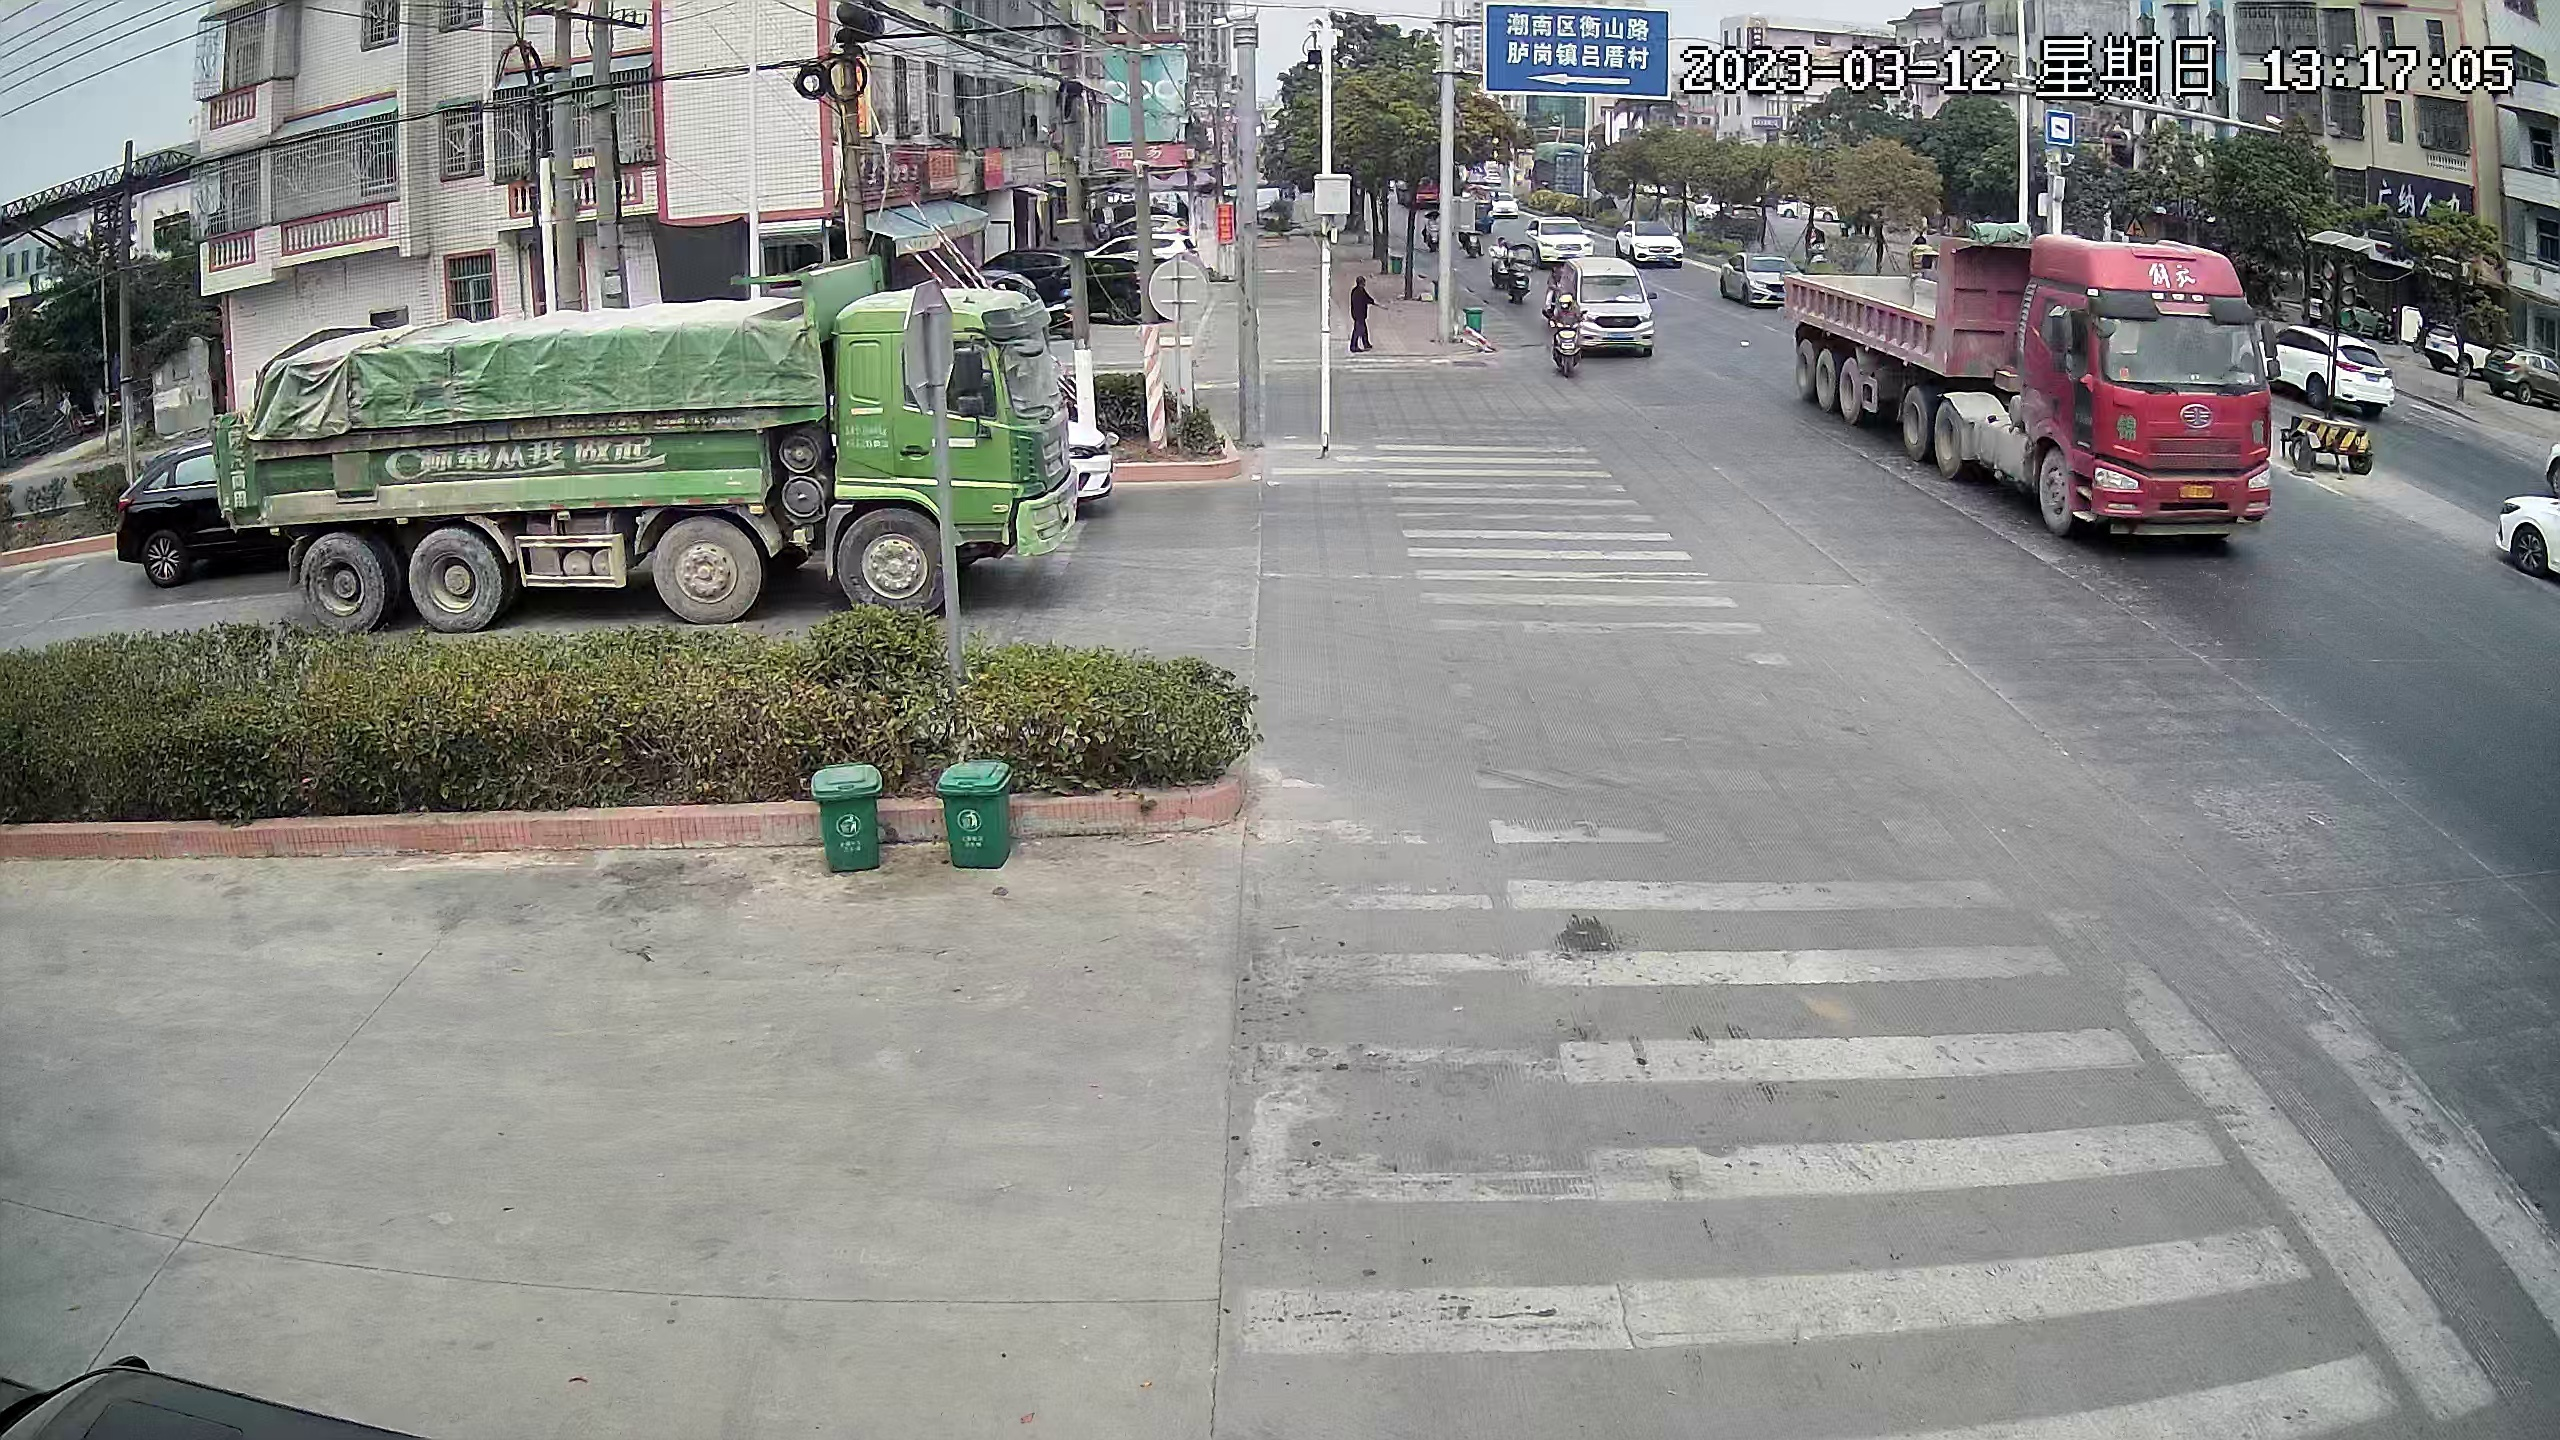motorcycle: (1547, 288, 1590, 379), (1419, 209, 1447, 257), (1507, 257, 1533, 303), (1492, 242, 1515, 284)
person: (1349, 260, 1379, 354)
sedan: (5, 1339, 453, 1440), (2275, 322, 2393, 419), (1057, 259, 1153, 319), (2495, 345, 2560, 414), (2507, 485, 2560, 569), (1723, 245, 1794, 302), (2428, 320, 2482, 389), (1100, 229, 1200, 263), (1625, 218, 1683, 268), (2310, 284, 2368, 330), (1490, 189, 1517, 219)
suv: (105, 432, 242, 590), (1528, 215, 1590, 259)
truck: (208, 304, 1077, 613), (1793, 237, 2274, 555)
van: (1567, 258, 1655, 359)
